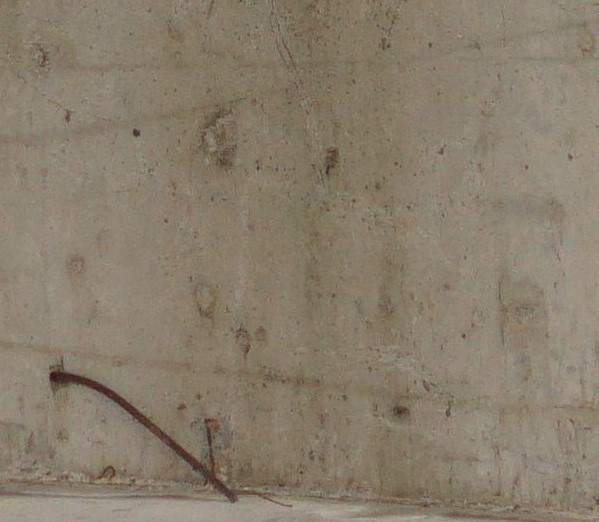Exposed reinforcement: (49, 371, 236, 505)
